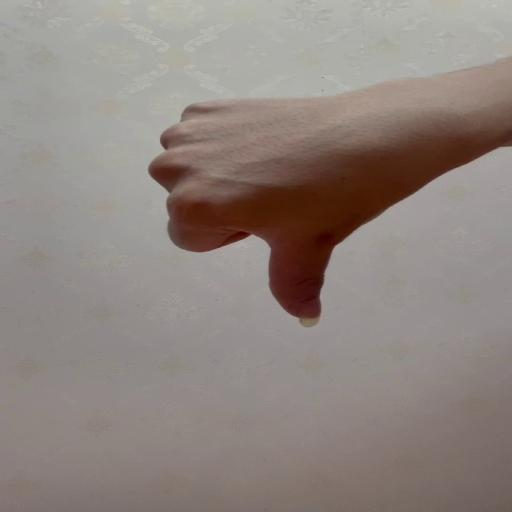thumbs_down: (144, 96, 417, 329)
